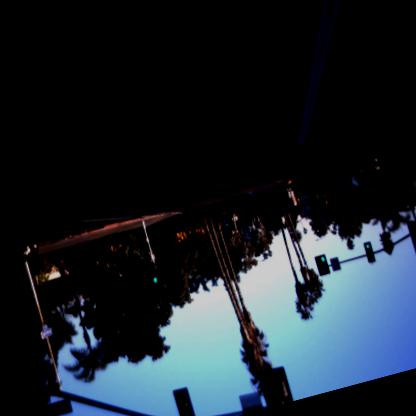trafficlight: (314, 253, 330, 276), (148, 262, 159, 285), (363, 240, 374, 260)
